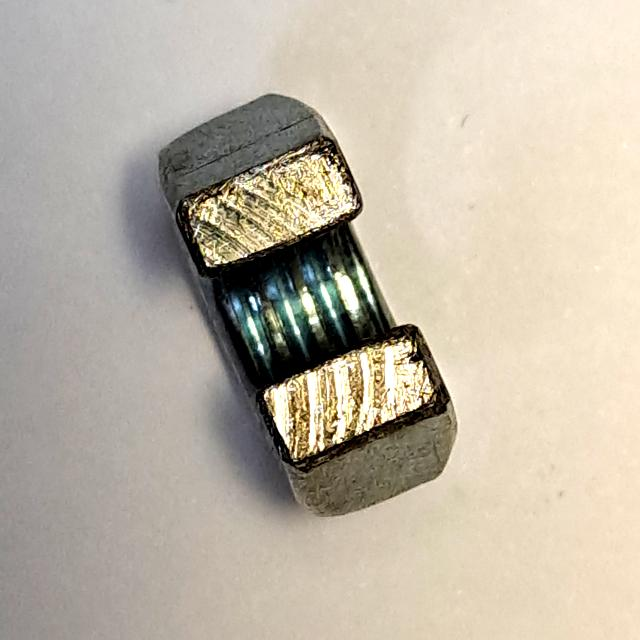Side-Fracture: (145, 79, 474, 541)
